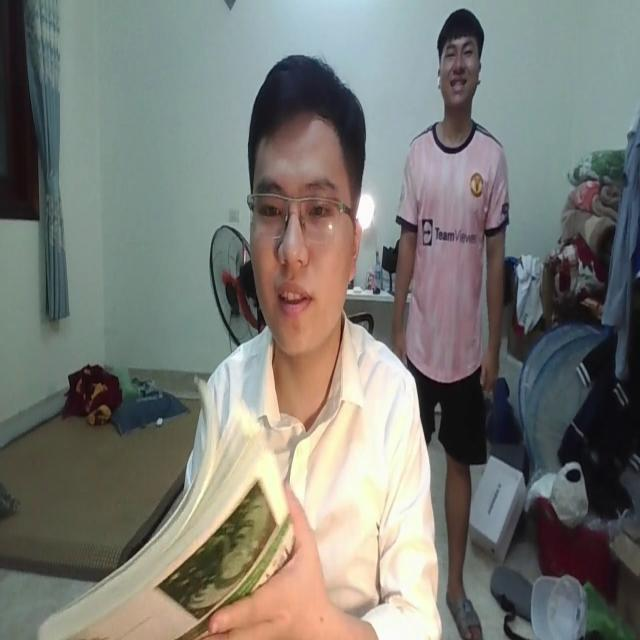book: (39, 366, 294, 640)
extra_person: (392, 11, 508, 630)
student: (185, 61, 441, 640)
